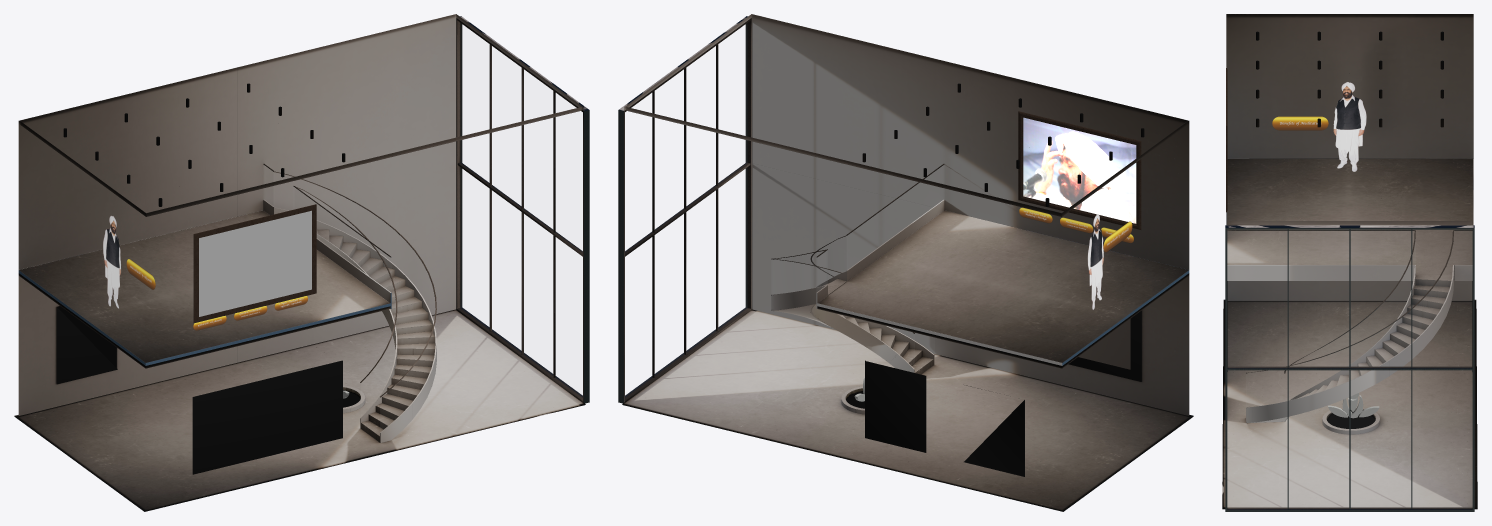
File: concluding-gallery.gltf
The picture shows the model from 3 angles, left to right: view 1: azimuth 30°, elevation 25°; view 2: azimuth 150°, elevation 25°; view 3: azimuth 270°, elevation 25°; orthographic projection. The views are drawn at different scales.
Parts seen in each view (by area): view 1: walls, floor, paintings, Floor2_2_Scan-130, steel, stairs, R-19; view 2: walls, floor, Floor2_2_Scan-130, paintings, steel, stairs, R-19; view 3: floor, walls, stairs, steel, R-19, MeditationInstructionsButton, Logo.
Part boxes in pixels (x1=…): walls: x1=14, y1=14, x2=583, y2=416; floor: x1=15, y1=210, x2=585, y2=511; paintings: x1=56, y1=307, x2=342, y2=474; Floor2_2_Scan-130: x1=193, y1=204, x2=316, y2=323; steel: x1=63, y1=16, x2=589, y2=403; stairs: x1=263, y1=199, x2=436, y2=442; R-19: x1=103, y1=215, x2=120, y2=308; walls: x1=624, y1=14, x2=1193, y2=416; floor: x1=622, y1=210, x2=1192, y2=511; Floor2_2_Scan-130: x1=1018, y1=111, x2=1141, y2=229; paintings: x1=865, y1=310, x2=1141, y2=476; steel: x1=618, y1=16, x2=1144, y2=403; stairs: x1=771, y1=199, x2=944, y2=374; R-19: x1=1087, y1=214, x2=1103, y2=309; floor: x1=1222, y1=159, x2=1477, y2=509; walls: x1=1222, y1=14, x2=1477, y2=482; stairs: x1=1227, y1=265, x2=1472, y2=423; steel: x1=1225, y1=31, x2=1474, y2=511; R-19: x1=1333, y1=82, x2=1366, y2=171; MeditationInstructionsButton: x1=1272, y1=116, x2=1328, y2=130; Logo: x1=1328, y1=393, x2=1379, y2=418.
Bounding box in the file's own units: 11.83 × 7.52 × 6.04.
